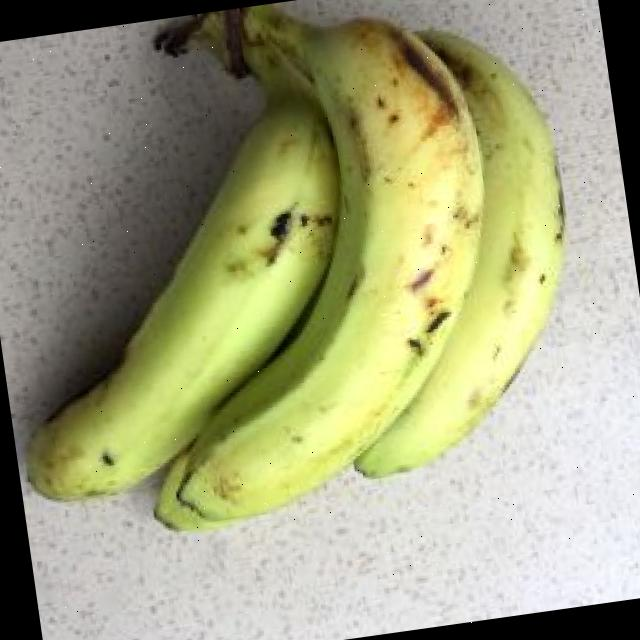banana: (179, 4, 483, 518), (29, 97, 338, 497), (355, 31, 564, 478)
